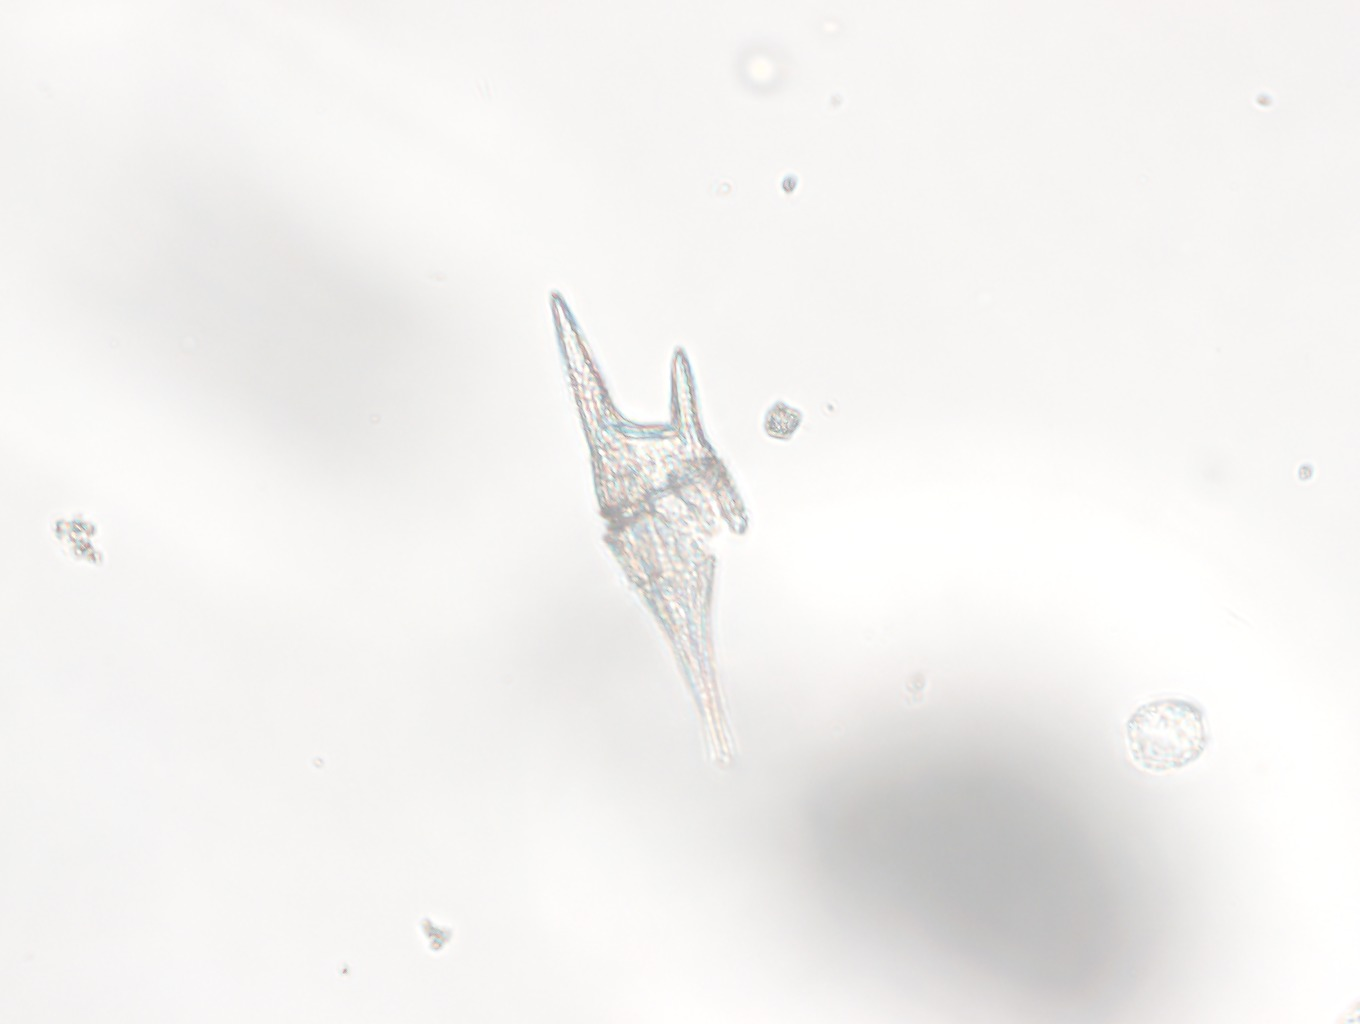ceratium furca: (552, 291, 750, 801)
